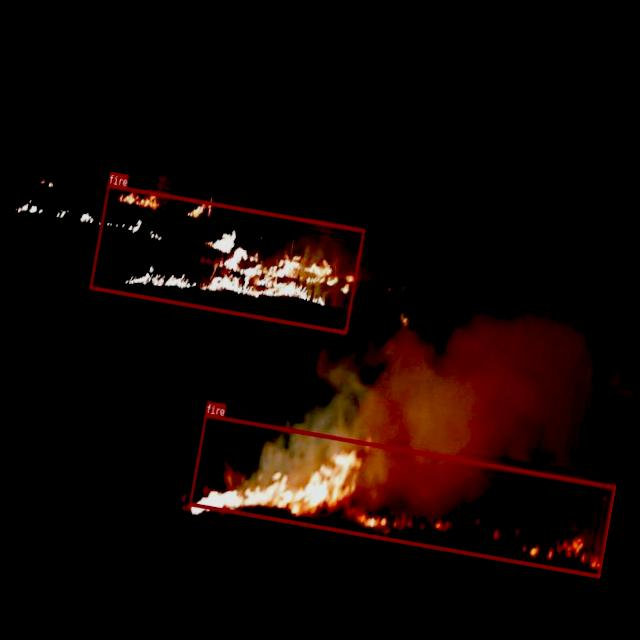fire: (188, 412, 615, 577), (89, 183, 364, 333)
